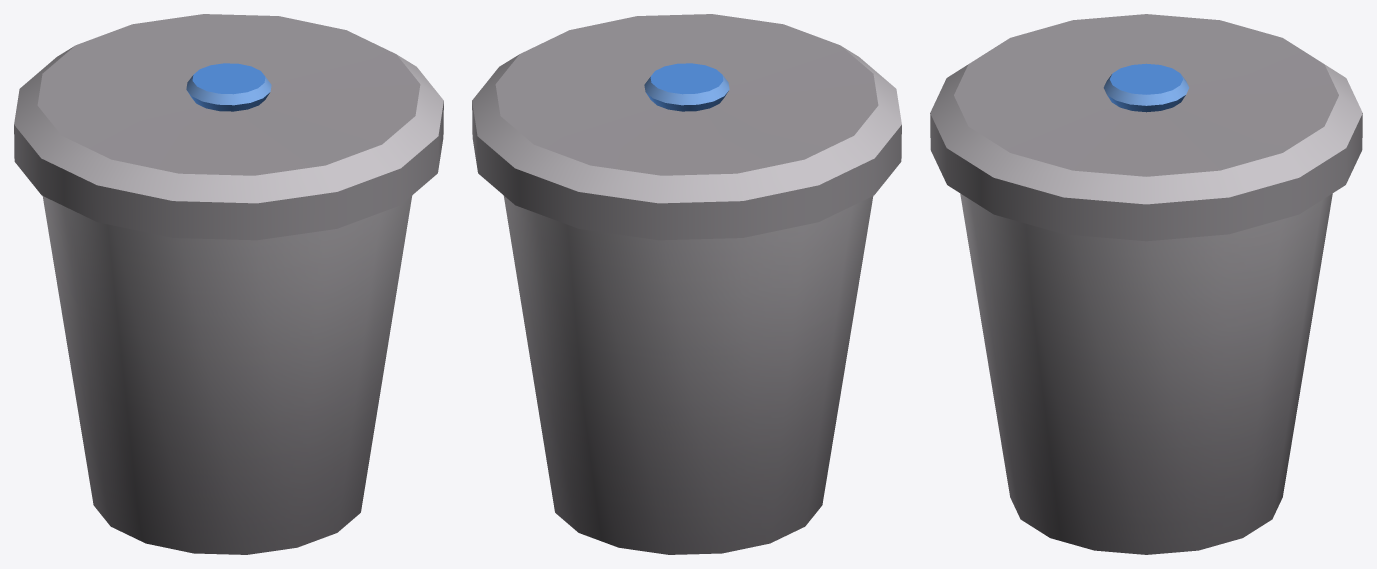
File: Trash_can.fbx
3 renders of one model, left to right at view 1: azimuth 30°, elevation 25°; view 2: azimuth 150°, elevation 25°; view 3: azimuth 270°, elevation 25°, orthographic.
Parts seen in each view (by area): view 1: Trash_can; view 2: Trash_can; view 3: Trash_can.
Boxes of the visible parts, x1=… form: Trash_can: x1=14, y1=14, x2=443, y2=554; Trash_can: x1=472, y1=14, x2=901, y2=554; Trash_can: x1=930, y1=14, x2=1362, y2=554.
Size of the model in its own units: 83.15 by 88.64 by 83.15.
Materials: 1 (1 with a texture image).
